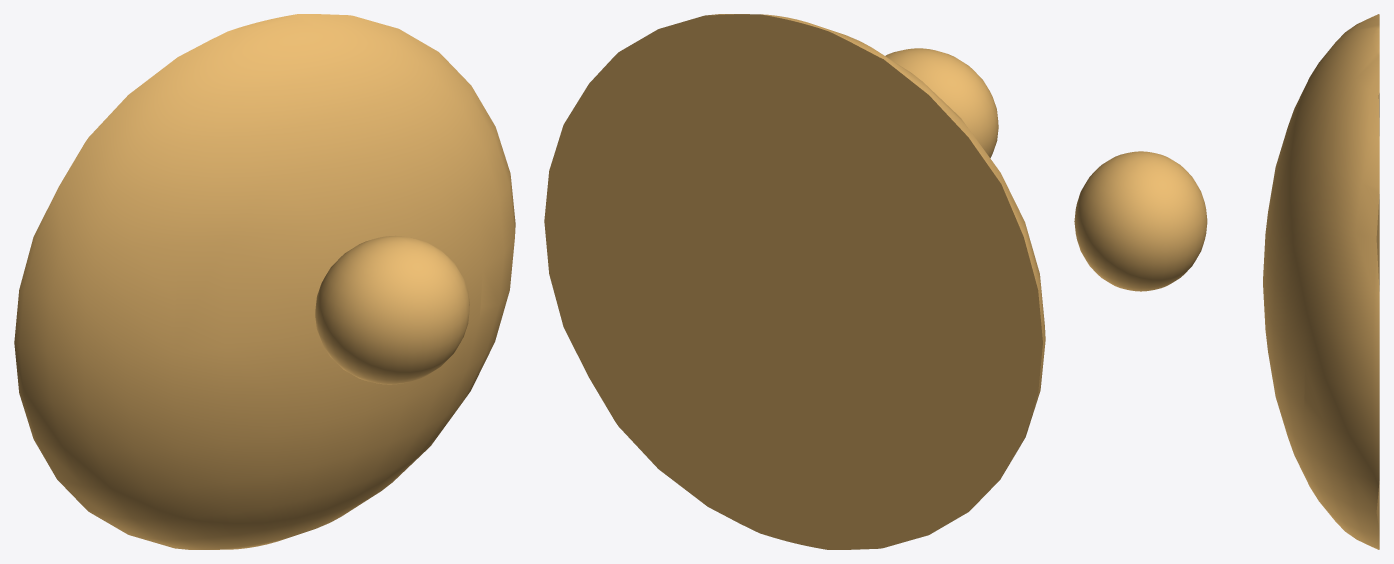
File: FondoCara.fbx
3 views of the same model, side by side, from view 1: azimuth 30°, elevation 25°; view 2: azimuth 150°, elevation 25°; view 3: azimuth 270°, elevation 25° (orthographic). The views are drawn at different scales.
Parts seen in each view (by area): view 1: fondocara; view 2: fondocara; view 3: fondocara.
Part boxes in pixels (<box>): fondocara: <box>14,14,515,549</box>; fondocara: <box>544,14,1045,549</box>; fondocara: <box>1074,14,1379,549</box>.
Bounding box in the file's own units: 2634 × 2634 × 1500.
